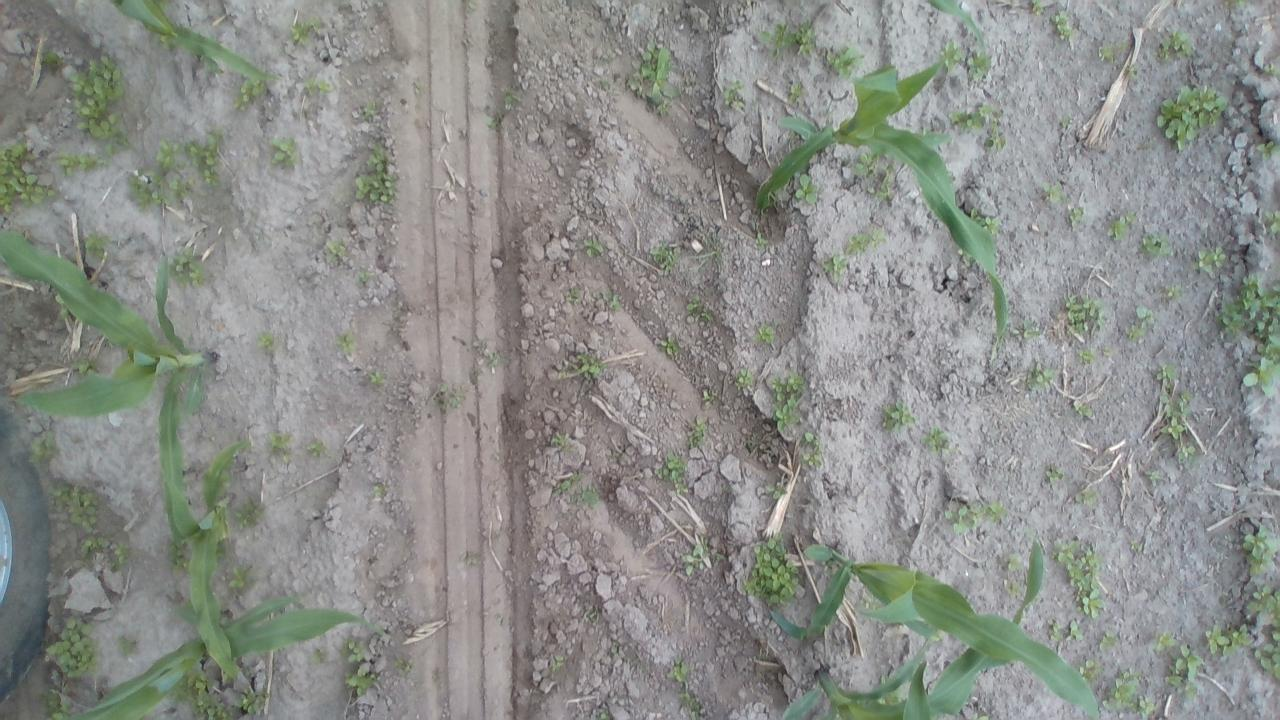Maize: (752, 46, 1008, 334), (769, 542, 1102, 716), (780, 539, 1049, 720), (74, 585, 384, 720), (0, 225, 219, 416), (162, 368, 245, 678), (112, 0, 268, 85), (927, 0, 987, 48)
Weeds: (49, 480, 134, 570), (63, 52, 131, 156), (1052, 534, 1112, 622), (1153, 80, 1225, 152), (1219, 276, 1280, 358), (124, 134, 188, 206), (741, 534, 803, 606), (627, 38, 686, 111), (0, 142, 56, 210), (44, 614, 96, 678), (183, 126, 234, 190), (1158, 388, 1200, 460), (173, 671, 235, 719), (1165, 639, 1208, 698), (759, 18, 816, 61), (1235, 529, 1280, 582), (357, 144, 395, 205), (768, 369, 805, 430), (1098, 662, 1136, 720), (1062, 292, 1114, 334), (1204, 622, 1256, 664), (951, 500, 1007, 536), (688, 222, 724, 276), (650, 452, 694, 494), (165, 247, 208, 289), (24, 426, 61, 473), (1239, 358, 1280, 400), (819, 42, 865, 79), (642, 238, 684, 276), (1252, 632, 1280, 684), (880, 397, 919, 433), (1245, 586, 1280, 626), (1154, 28, 1194, 63), (56, 150, 106, 178), (286, 12, 326, 46), (947, 98, 995, 126), (846, 225, 886, 256), (83, 227, 119, 261), (269, 134, 302, 170), (1188, 246, 1226, 276), (963, 47, 992, 86), (1028, 360, 1064, 391), (232, 496, 264, 530), (1140, 234, 1178, 261), (345, 636, 375, 670), (756, 322, 791, 351), (865, 170, 901, 198), (232, 81, 264, 112), (222, 563, 254, 594), (1006, 315, 1042, 341), (1110, 209, 1137, 243), (36, 689, 64, 720), (684, 292, 711, 324), (799, 426, 820, 466), (920, 423, 951, 450), (854, 151, 886, 177), (1096, 38, 1128, 64), (682, 412, 705, 448), (568, 488, 602, 512), (343, 670, 377, 694), (266, 428, 292, 459), (437, 384, 468, 410), (966, 210, 1004, 231), (680, 544, 706, 574), (795, 174, 821, 202), (238, 687, 264, 714), (1072, 396, 1098, 422), (665, 659, 697, 680), (38, 48, 66, 72), (598, 288, 624, 313), (942, 38, 961, 72), (1050, 12, 1074, 38), (576, 352, 602, 376), (1071, 482, 1098, 505), (1040, 181, 1066, 204), (721, 79, 742, 107), (552, 474, 576, 498), (1154, 631, 1178, 655), (984, 127, 1009, 150), (336, 326, 358, 352), (114, 634, 138, 657), (499, 85, 528, 104), (661, 336, 686, 358), (1130, 304, 1157, 324), (564, 282, 586, 306), (392, 652, 416, 674), (484, 106, 504, 132), (1098, 632, 1122, 653), (732, 366, 756, 387), (1154, 361, 1174, 386), (1003, 548, 1023, 573), (1068, 618, 1086, 645), (307, 647, 334, 665), (824, 254, 846, 276), (255, 330, 278, 351), (1046, 619, 1064, 645), (66, 353, 92, 371), (580, 234, 602, 255), (547, 653, 566, 677), (548, 431, 572, 450), (306, 438, 331, 456), (1256, 138, 1278, 158), (676, 686, 698, 706), (1136, 695, 1154, 719), (786, 81, 806, 102), (365, 366, 384, 388), (1066, 202, 1082, 228), (1080, 659, 1100, 679), (305, 78, 331, 93), (358, 105, 380, 121), (1266, 208, 1280, 232), (767, 482, 788, 498), (701, 388, 719, 406), (1126, 326, 1146, 342), (1002, 577, 1019, 595), (325, 240, 344, 256), (1080, 347, 1096, 365), (1128, 64, 1142, 84), (485, 353, 505, 367), (1030, 1, 1046, 18), (374, 483, 390, 500), (1046, 468, 1064, 483), (1262, 60, 1280, 75), (1219, 0, 1250, 8), (357, 266, 372, 282), (754, 231, 772, 244), (411, 77, 424, 95), (1128, 538, 1142, 552), (1101, 342, 1114, 356), (1163, 284, 1177, 296), (1144, 468, 1160, 478), (1059, 116, 1070, 127)
